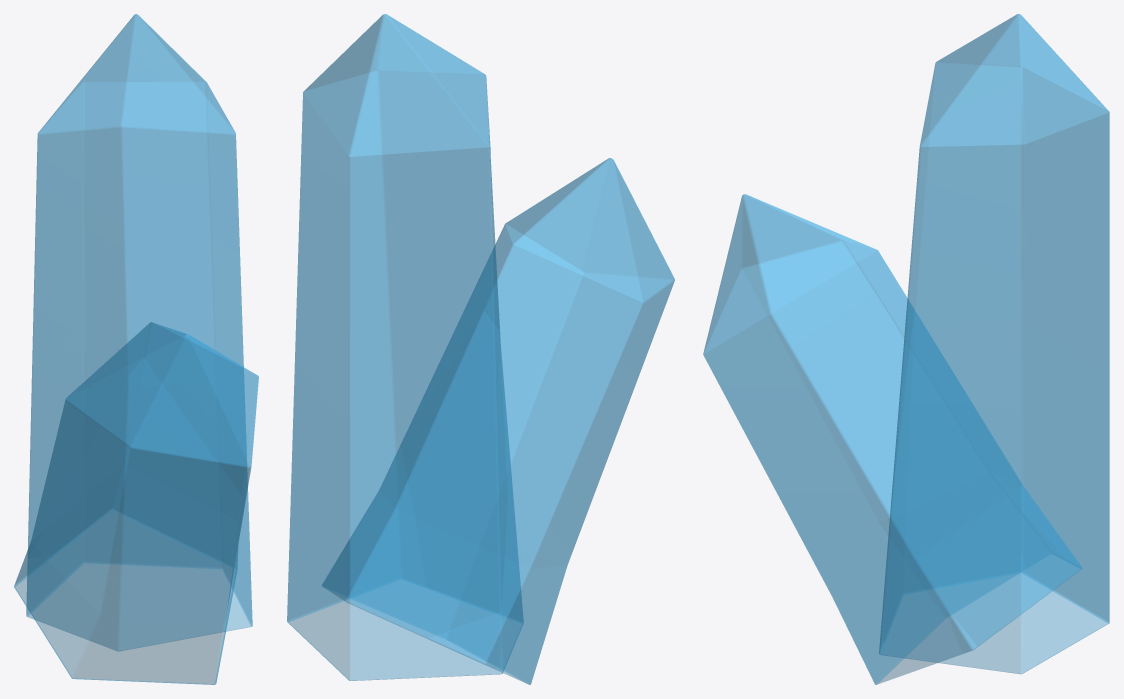
The model's file is SmallGem.fbx.
3 views of the same model, side by side, from view 1: azimuth 30°, elevation 25°; view 2: azimuth 150°, elevation 25°; view 3: azimuth 270°, elevation 25° (orthographic). The views are drawn at different scales.
Parts seen in each view (by area): view 1: Gem; view 2: Gem; view 3: Gem.
Boxes of the visible parts, <box> form: Gem: <box>14,14,258,684</box>; Gem: <box>287,14,674,684</box>; Gem: <box>703,14,1109,684</box>.
Bounding box in the file's own units: 41.59 × 103 × 56.82.
